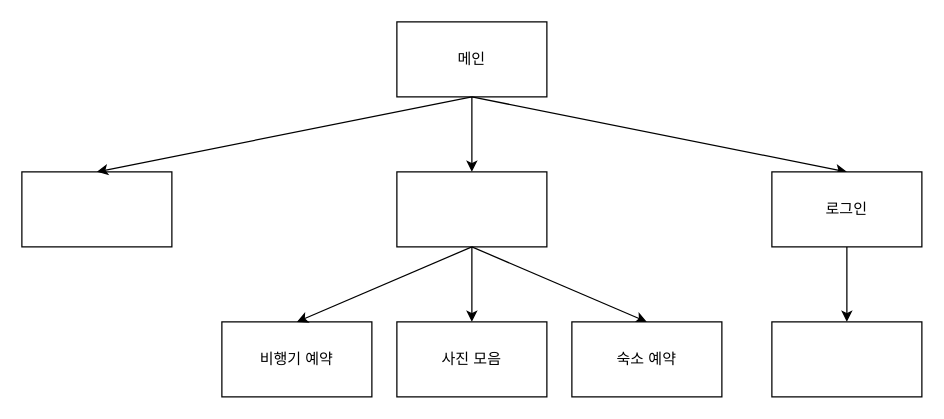
Image size: 944x419. Some labels were removed from this diagram. Each missing label, with the centre of its shape:
게시물: [471,209]
광고: [96,209]
회원가입: [846,359]
